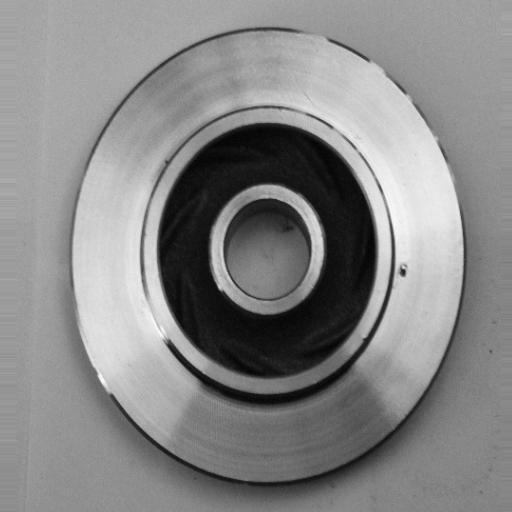crack: (392, 254, 417, 292)
scratch: (137, 253, 179, 355)
unpolished_casting: (70, 24, 469, 492)
